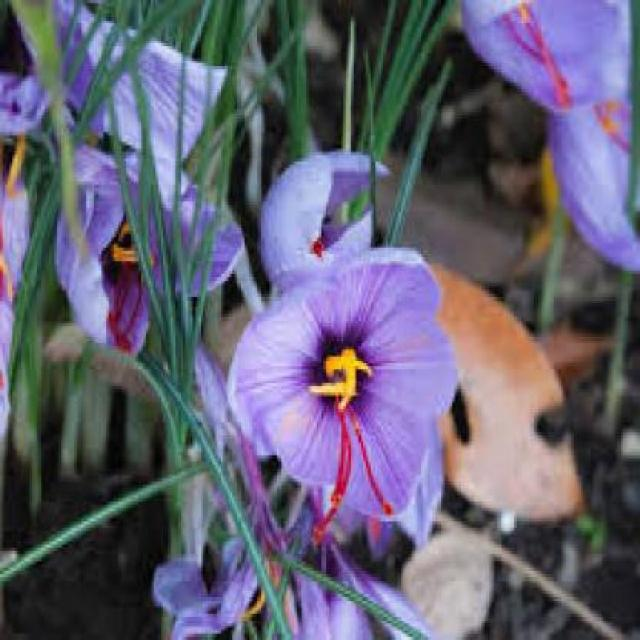saffron open: (230, 249, 454, 528), (462, 1, 638, 272), (58, 144, 244, 354)
